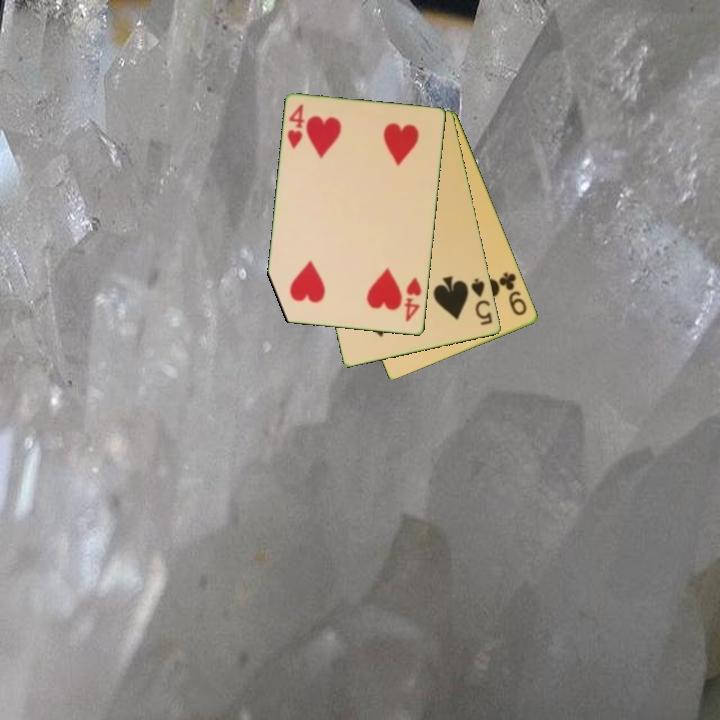4h: (401, 274, 425, 325), (284, 101, 308, 152)
5s: (468, 275, 496, 328)
9c: (496, 269, 530, 319)
